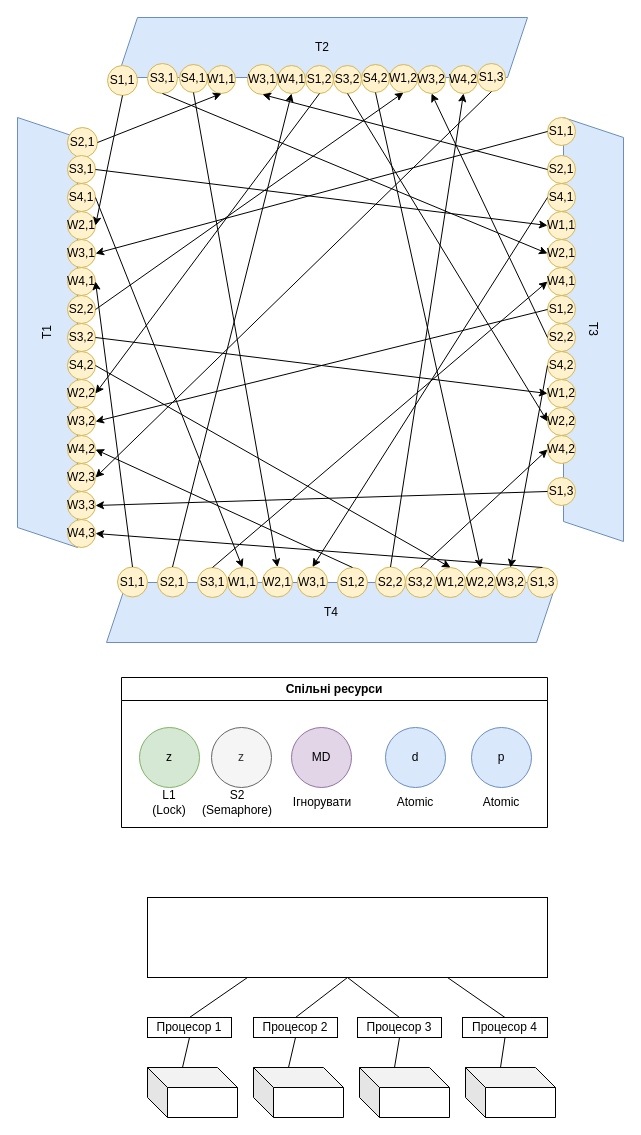
The diagram is 641 pixels wide and 1135 high, and some of its shapes have lost their labels. Here are the shapes that lost their labels. From the top down, the centre of each, then its label:
the point at 347,937: Спільна памʼять
the point at 192,1092: d, MA
the point at 298,1092: MX
the point at 404,1092: MC, p
the point at 510,1092: Z, MD
